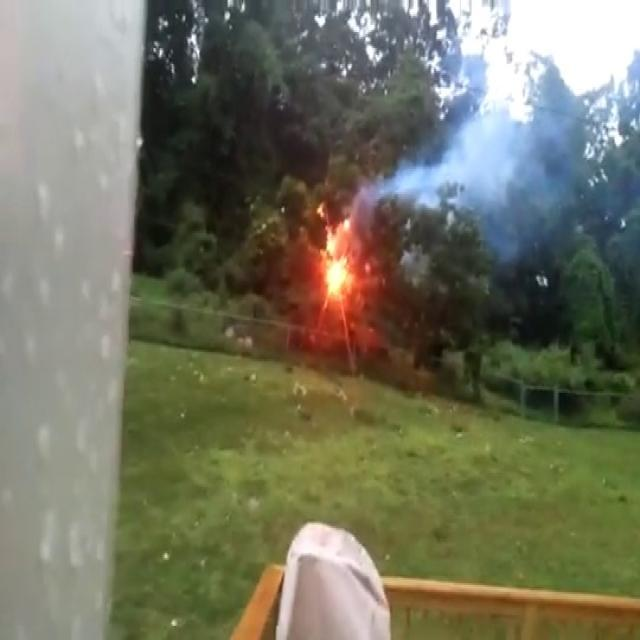Fire: (316, 212, 362, 306)
Smoke: (392, 74, 592, 241)
